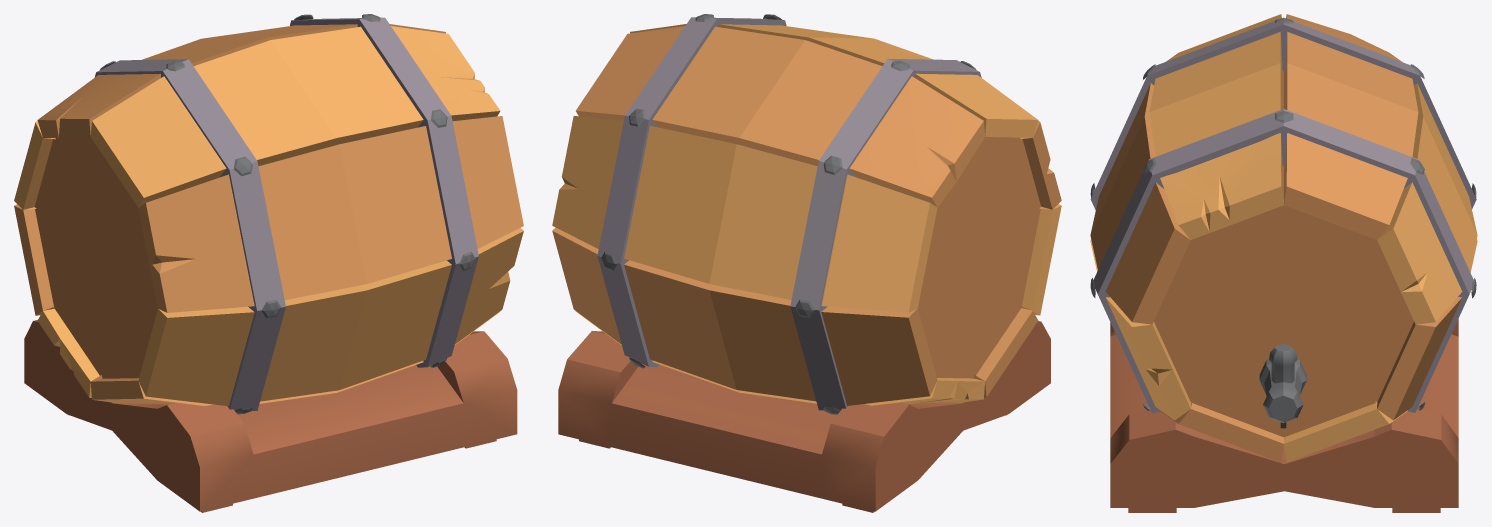
The model's file is wine barrel 2.fbx.
3 renders of one model, left to right at view 1: azimuth 30°, elevation 25°; view 2: azimuth 150°, elevation 25°; view 3: azimuth 270°, elevation 25°, orthographic.
Parts seen in each view (by area): view 1: pCube274; view 2: pCube274; view 3: pCube274.
Boxes of the visible parts, x1,y1,x2,y2 form: pCube274: (14, 14, 523, 512); pCube274: (552, 14, 1061, 512); pCube274: (1090, 14, 1477, 512).
Bounding box in the file's own units: 1.36 × 1.2 × 1.11.
